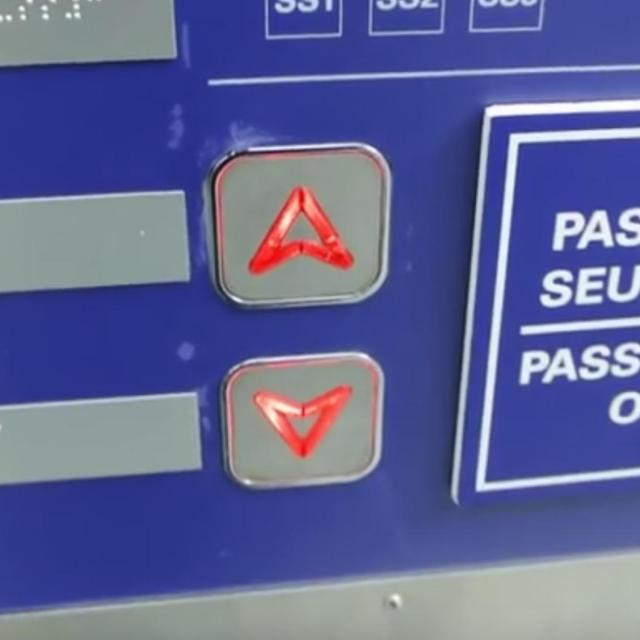down: (210, 350, 395, 488)
up: (204, 138, 396, 309)
